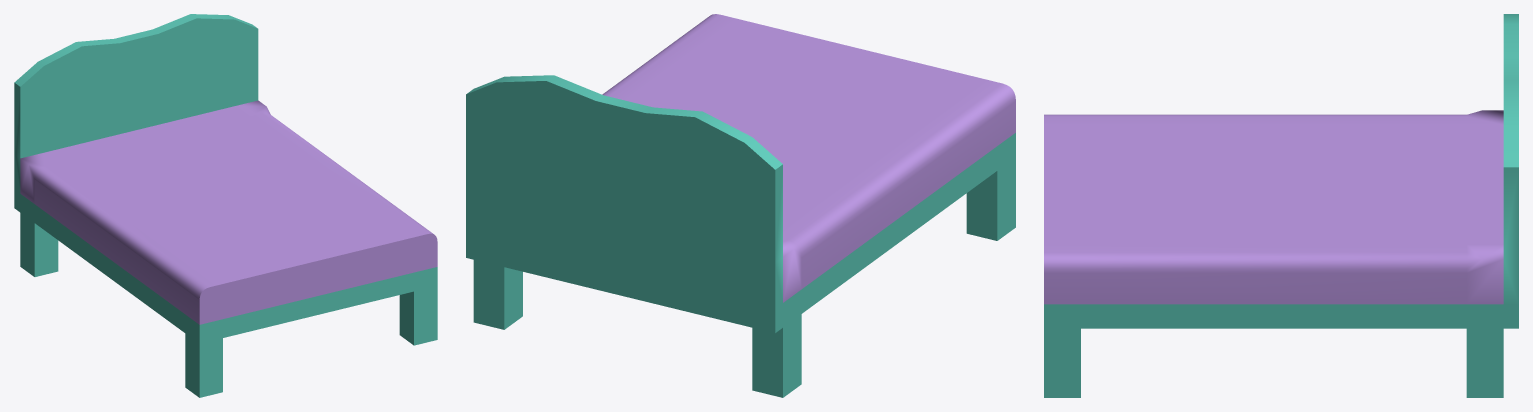
File: Bed.FBX
3 renders of one model, left to right at view 1: azimuth 30°, elevation 25°; view 2: azimuth 150°, elevation 25°; view 3: azimuth 270°, elevation 25°, orthographic. The views are drawn at different scales.
Parts seen in each view (by area): view 1: Bed; view 2: Bed; view 3: Bed.
Part boxes in pixels (x1=…): Bed: x1=14, y1=14, x2=437, y2=397; Bed: x1=466, y1=14, x2=1015, y2=397; Bed: x1=1044, y1=14, x2=1518, y2=397.
Size of the model in its own units: 2.3 by 1.9 by 3.1.
